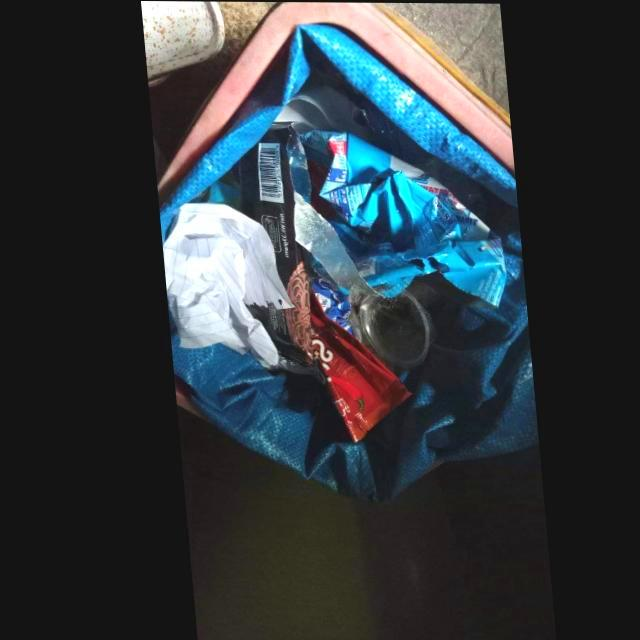food_wrapper: (299, 129, 502, 306), (236, 125, 371, 365)
glass_bottle: (354, 270, 446, 368)
paper: (157, 202, 288, 368)
